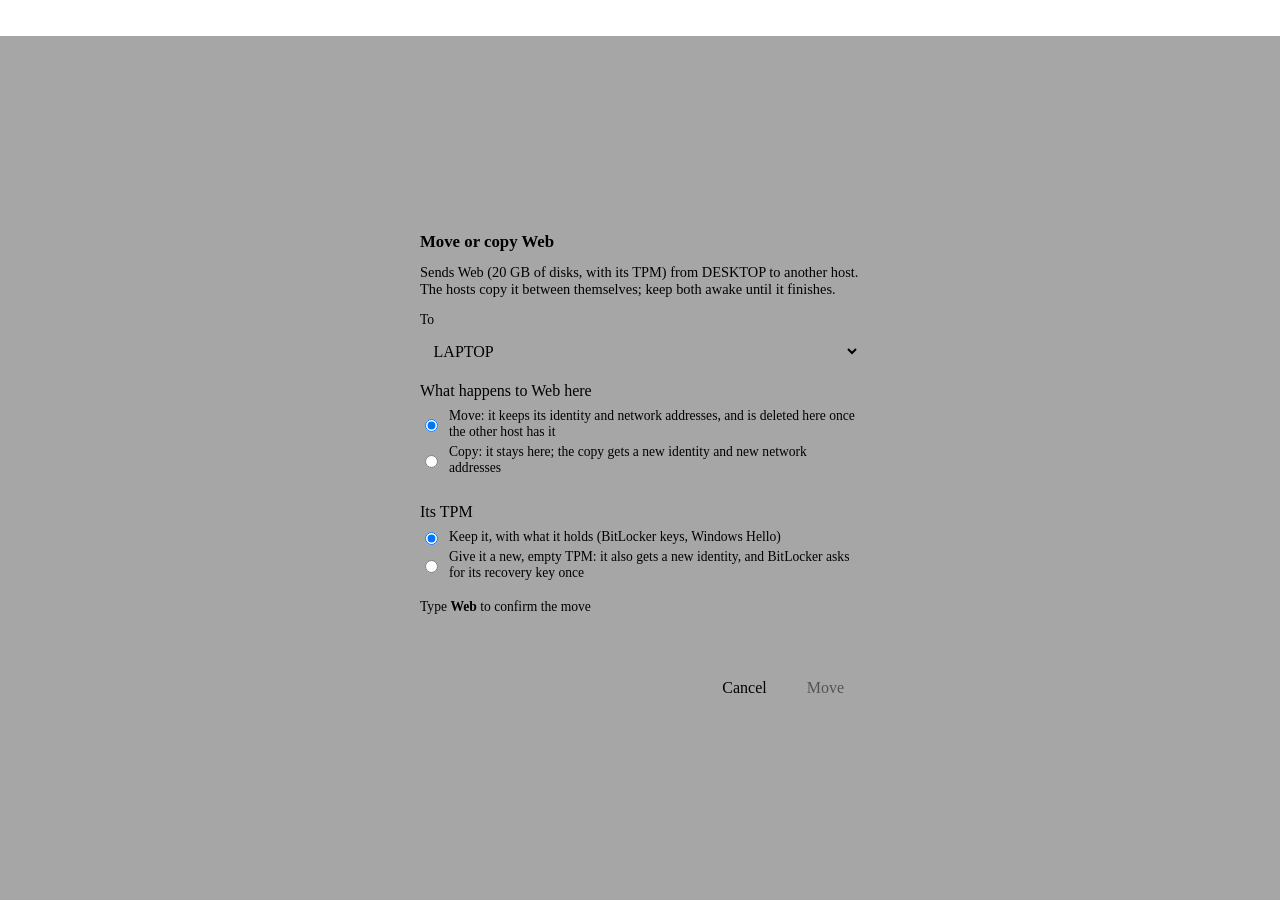
Test: TransferVmDialog › copies: asks the other host, starts on this one, and carries this device's settings to the copy
The width and height of the screenshot is (1280, 900).
Click the radio button labelled "Copy". click: click(432, 462)
box: 425,455 -> 438,468
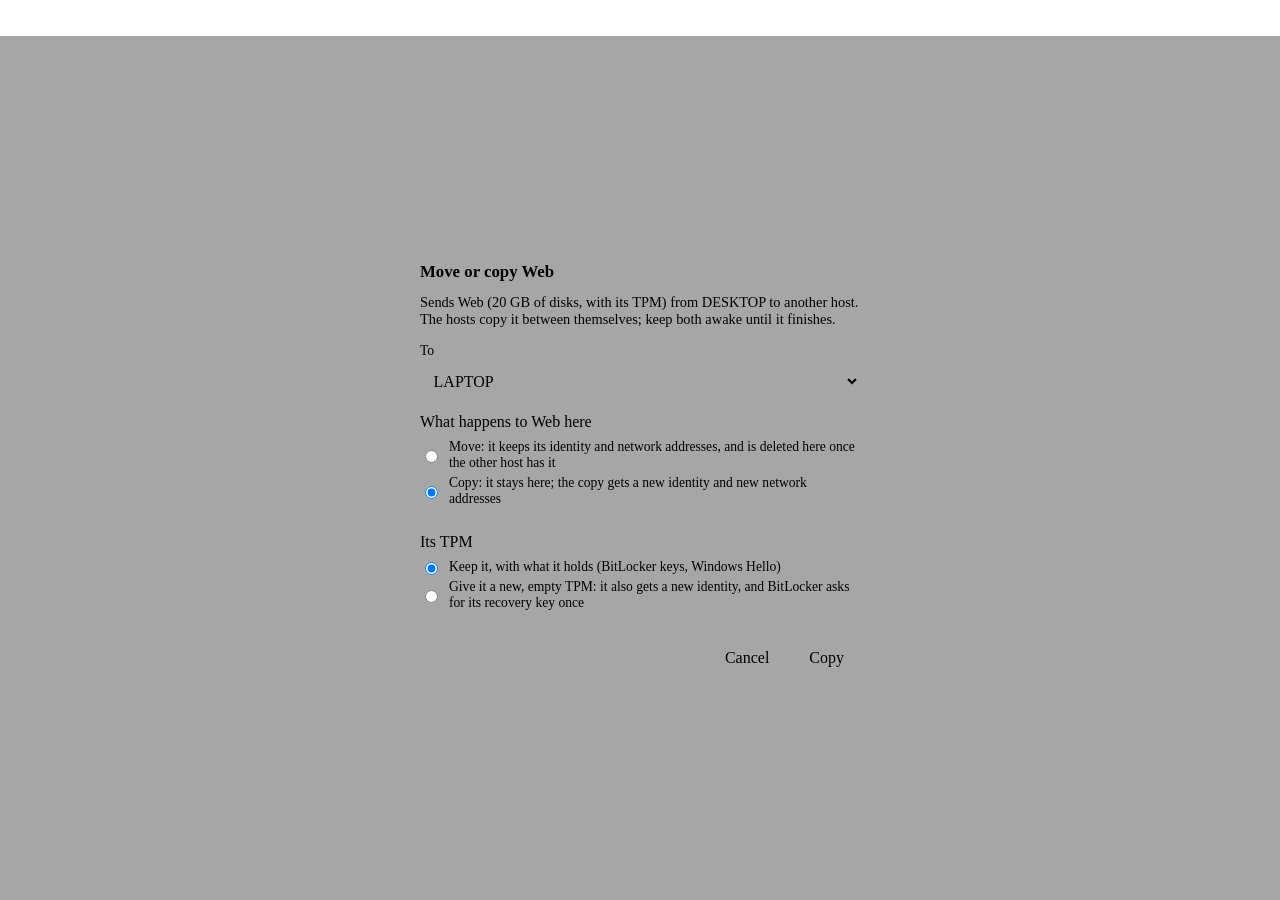
Click the button "Copy". click: click(827, 658)
box: 793,642 -> 860,674
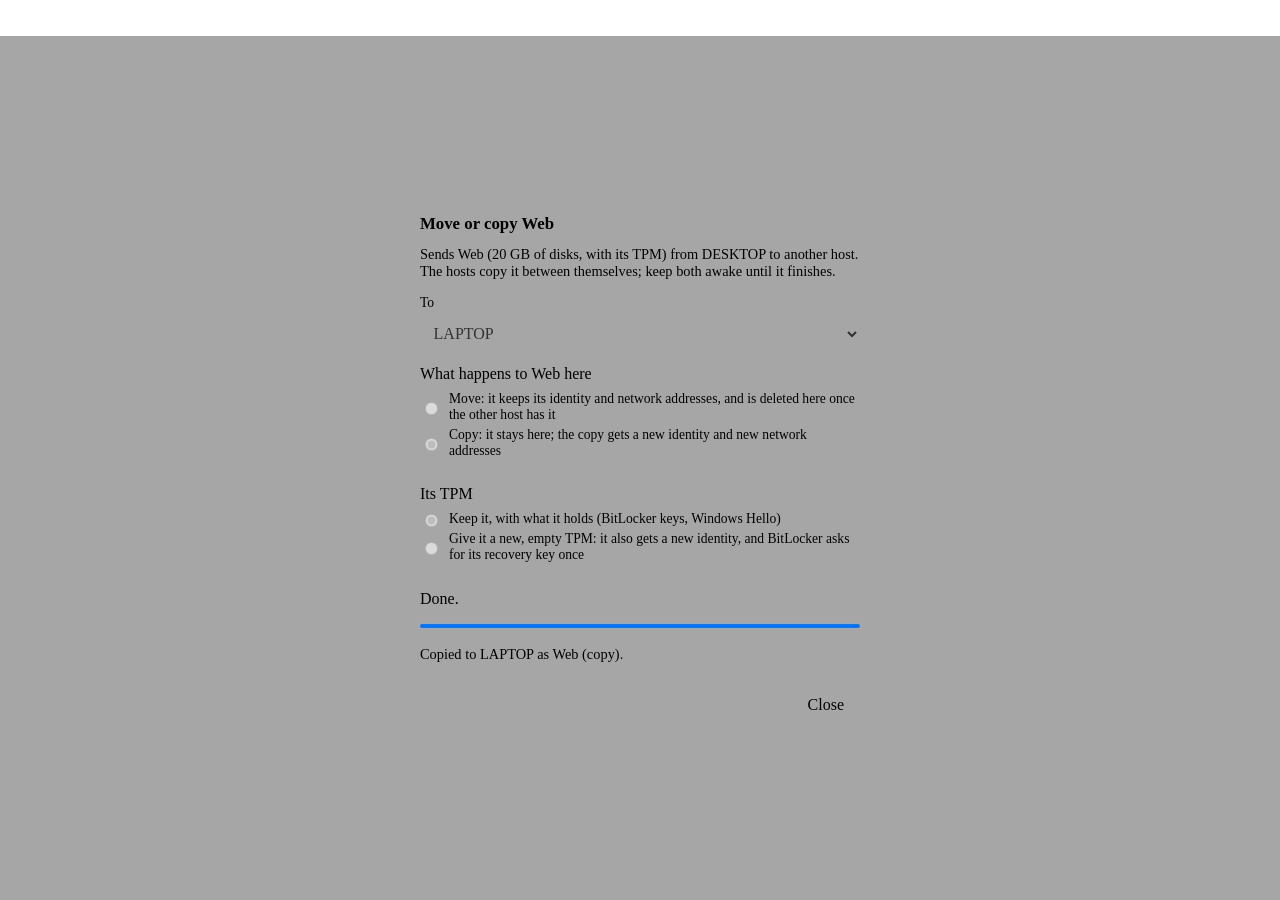
Expected: the text "Copied to LAPTOP as Web (copy)." is shown, 420,646 -> 623,662
